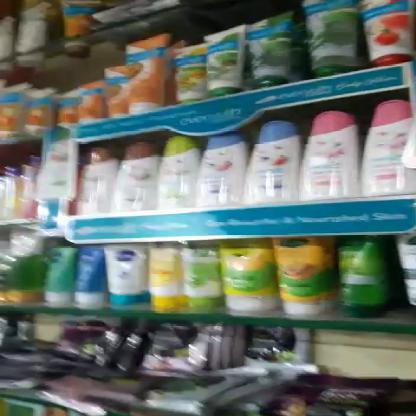Everyuth Naturals Body Lotion Nourishing Cocoa 200ml: (112, 144, 152, 210), (76, 148, 114, 214)
Everyuth Naturals Body Lotion Rejuvenating Flora 200ml: (301, 110, 356, 201), (365, 99, 410, 197)
Everyuth Naturals Body Lotion Soothing Citrus 200ml: (156, 135, 200, 209)
Everyuth Naturals Body Lotion Sun Care Berries SPF 15 200ml: (244, 119, 300, 203), (197, 132, 246, 206)
